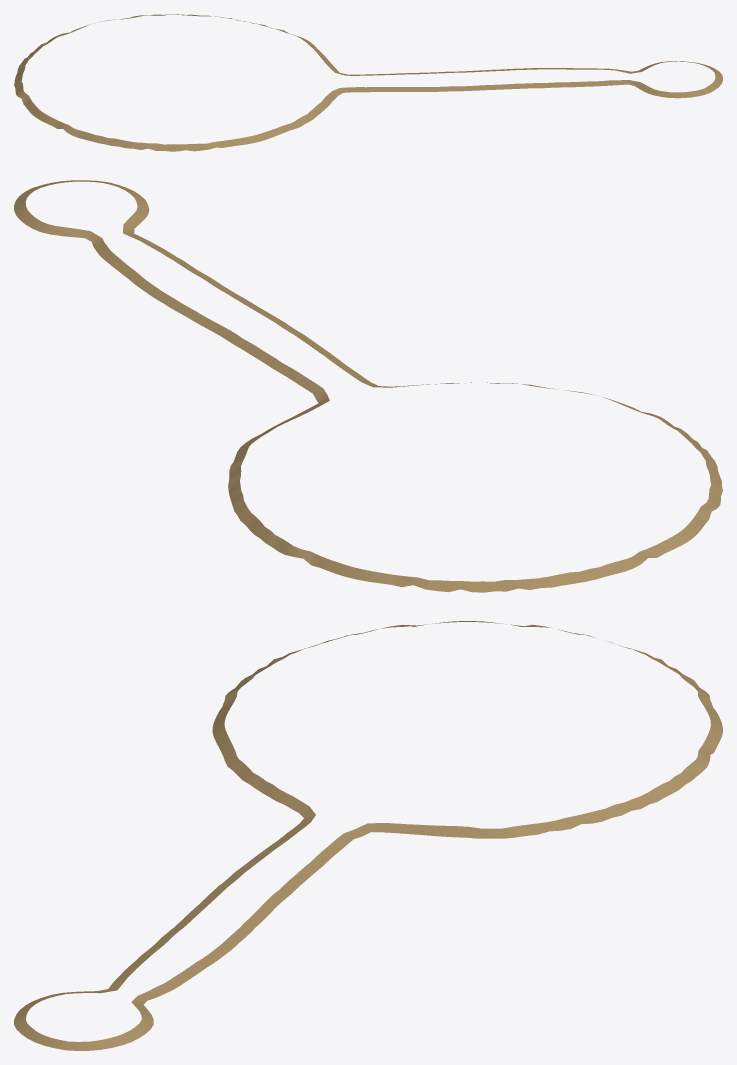
File: PB_WetSand.glb
3 views of the same model, one above another, from view 1: azimuth 30°, elevation 25°; view 2: azimuth 150°, elevation 25°; view 3: azimuth 270°, elevation 25° (orthographic). The views are drawn at different scales.
Parts seen in each view (by area): view 1: PB_WetSand_1_Sand; view 2: PB_WetSand_1_Sand; view 3: PB_WetSand_1_Sand.
Boxes of the visible parts, x1,y1,x2,y2 form: PB_WetSand_1_Sand: (14, 14, 722, 151); PB_WetSand_1_Sand: (14, 180, 722, 592); PB_WetSand_1_Sand: (14, 621, 722, 1050).
Size of the model in its own units: 251 by 1.98 by 175.
